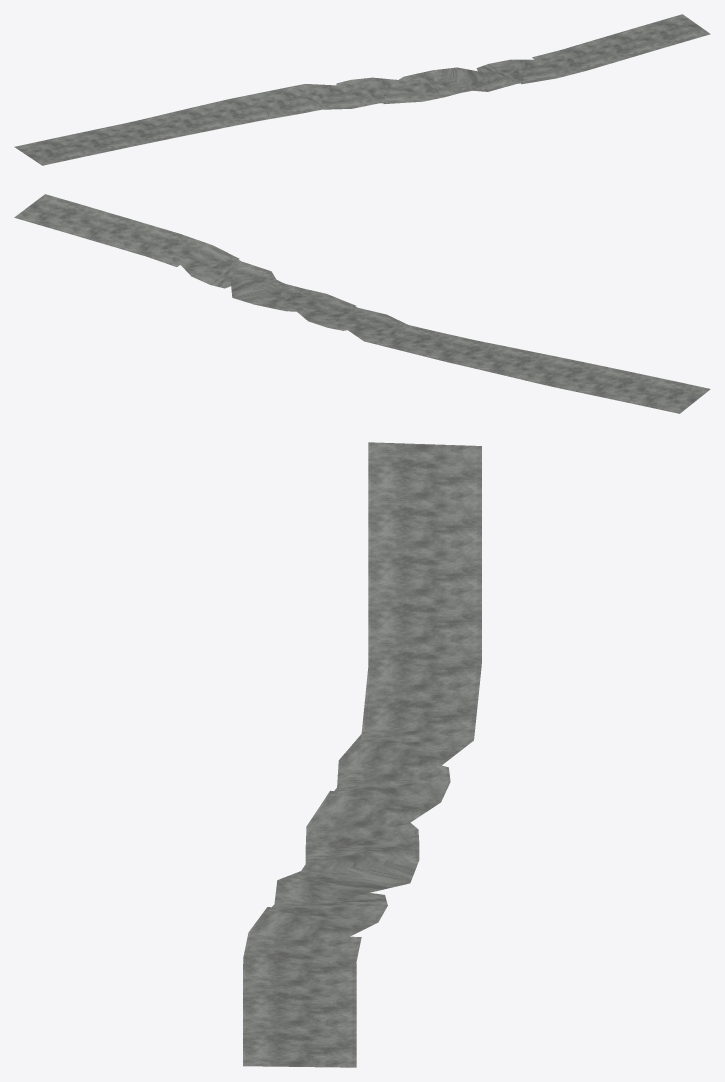
Rendered from RD-ROAD-011.obj.
3 views of the same model, one above another, from view 1: azimuth 30°, elevation 25°; view 2: azimuth 150°, elevation 25°; view 3: azimuth 270°, elevation 25° (orthographic). The views are drawn at different scales.
Visible parts, largest first — view 1: RD-ROAD-011; view 2: RD-ROAD-011; view 3: RD-ROAD-011.
Part boxes in pixels (bbox=[...]): RD-ROAD-011: bbox=[14, 14, 710, 165]; RD-ROAD-011: bbox=[14, 194, 710, 413]; RD-ROAD-011: bbox=[243, 442, 481, 1067].
Bounding box in the file's own units: 55.08 × 1.18 × 8.94.
Materials: 1 (1 with a texture image).
